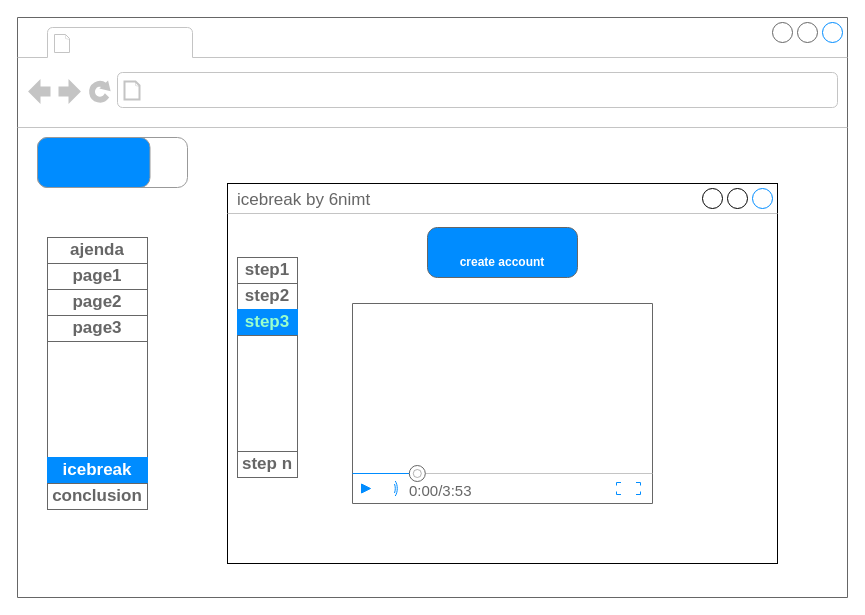
Image size: 865x615. Some labels were removed from this diagram. The shapes that lost their labels are listed below. From the top down, each one's centre as x and y in pixels, then its label:
At point (132, 42): "Page 1".
At point (272, 90): "https://www.draw.io".
At point (112, 162): "Templete ON".
At point (502, 245): "Step 3".
